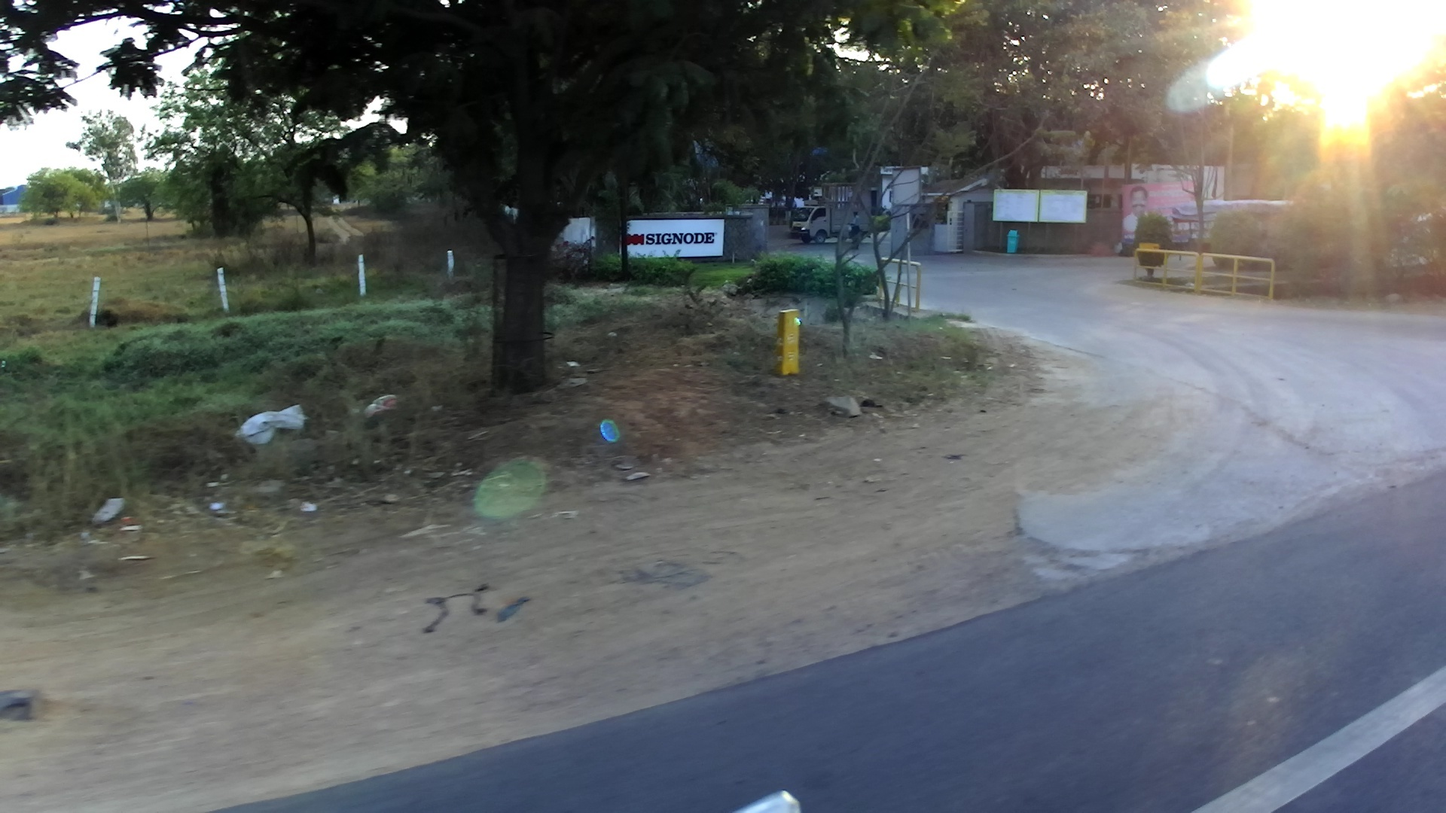person: (847, 212, 865, 255)
truck: (786, 178, 872, 249)
